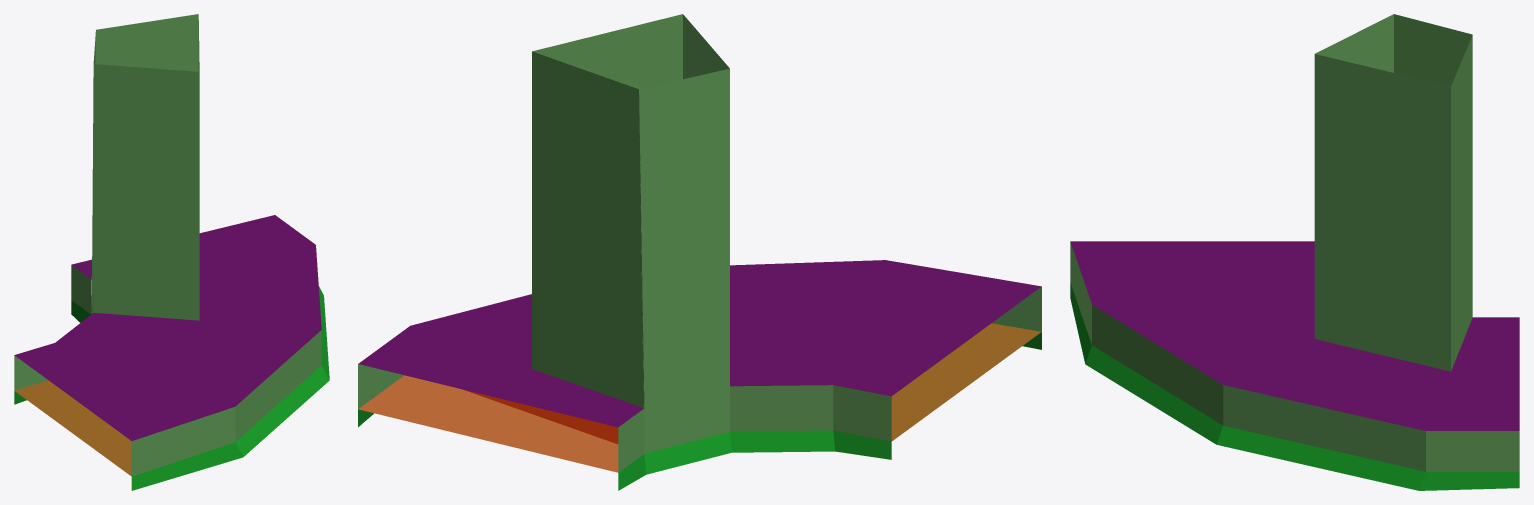
File: hiway06.obj
3 renders of one model, left to right at view 1: azimuth 30°, elevation 25°; view 2: azimuth 150°, elevation 25°; view 3: azimuth 270°, elevation 25°, orthographic. The views are drawn at different scales.
Visible parts, largest first — view 1: Cube.033_Cube.044; view 2: Cube.033_Cube.044; view 3: Cube.033_Cube.044.
Part boxes in pixels (box(x1,y1,x2,y2)): Cube.033_Cube.044: box(14, 14, 329, 490); Cube.033_Cube.044: box(358, 14, 1041, 490); Cube.033_Cube.044: box(1070, 14, 1519, 490).
Bounding box in the file's own units: 203 × 168 × 200.
